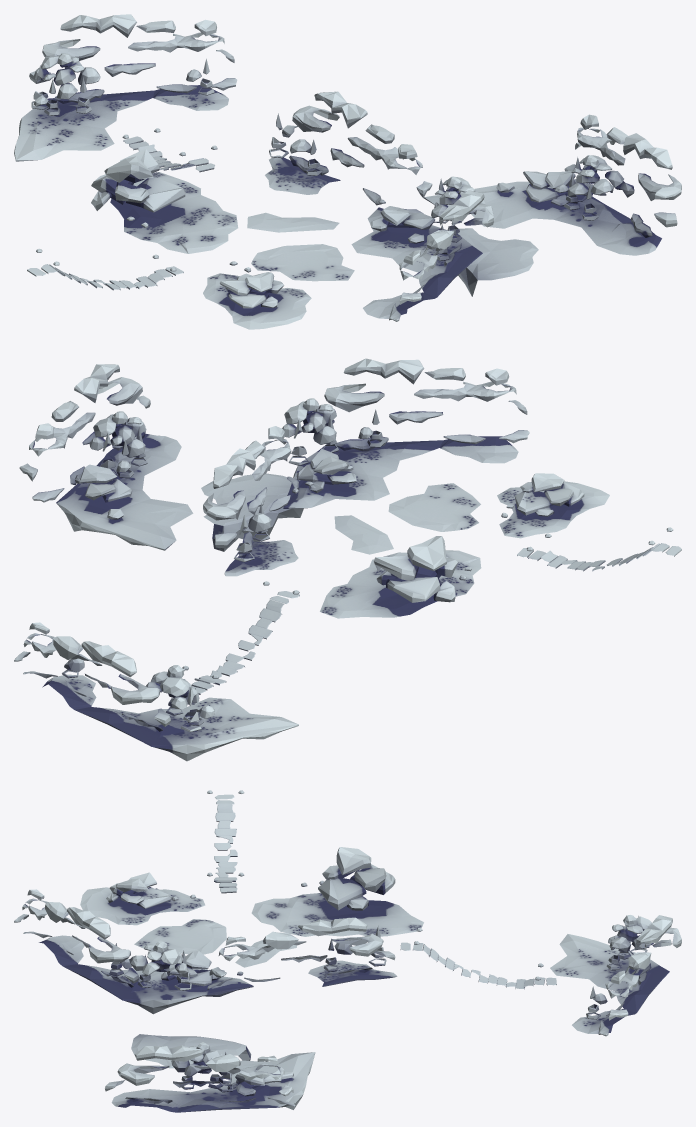
The model's file is Snow_01.FBX.
The picture shows the model from 3 angles, top to bottom: view 1: azimuth 30°, elevation 25°; view 2: azimuth 150°, elevation 25°; view 3: azimuth 270°, elevation 25°; orthographic projection. The views are drawn at different scales.
Parts seen in each view (by area): view 1: Snow_01; view 2: Snow_01; view 3: Snow_01.
Boxes of the visible parts, x1,y1,x2,y2 form: Snow_01: (14,14,681,329); Snow_01: (14,358,681,761); Snow_01: (14,790,681,1112).
Bounding box in the file's own units: 48.35 × 10.42 × 51.5.
